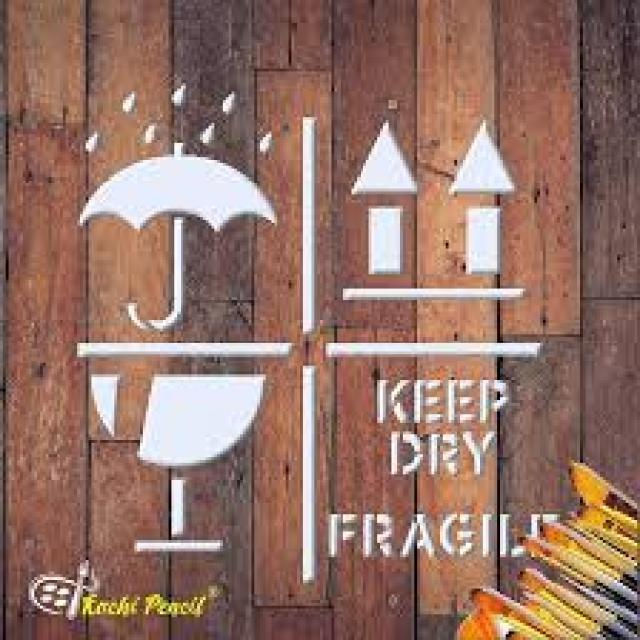fragile_label: (77, 354, 308, 584)
keep_dry_label: (62, 49, 311, 357), (334, 356, 538, 504)
this_side_up_label: (322, 96, 548, 350)
